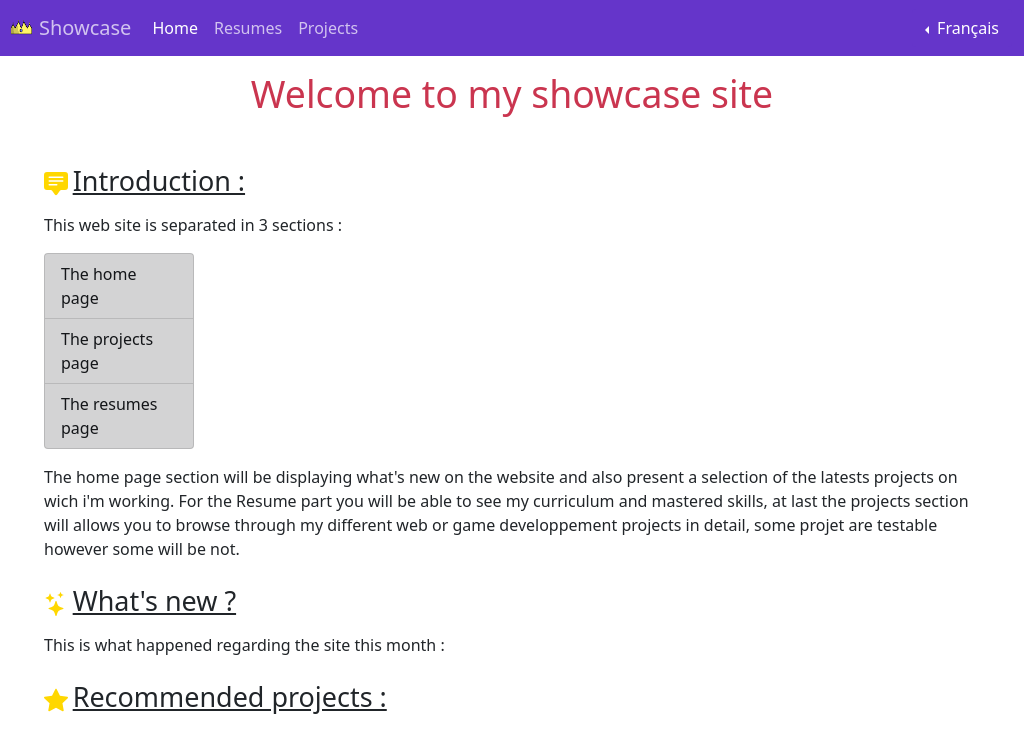
The Home page end to end test › Should navigate to The resumes page when clicking in The resumes page link at the section list
What coordinates should you click on to do the following:
click the link with id "resumeSectionLink"
I would click on:
 (119, 417)
Its box is [44,384,194,449].
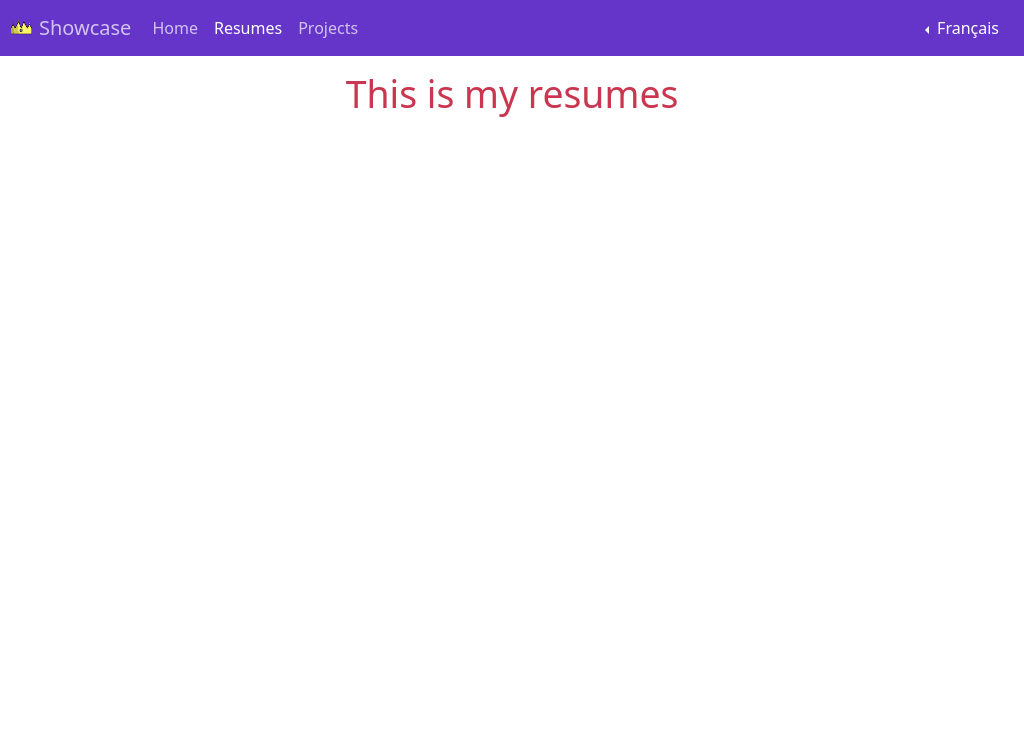
Now the heading with class "resume-page-title" reads "This is my resumes", box [346,68,679,119]
